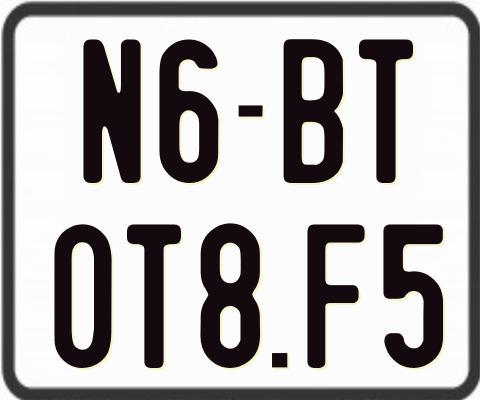0: (54, 223, 117, 373)
5: (381, 224, 445, 370)
6: (158, 38, 221, 181)
8: (199, 223, 259, 368)
B: (281, 36, 341, 185)
F: (307, 224, 369, 368)
N: (80, 38, 142, 184)
T: (358, 37, 418, 187), (125, 221, 181, 368)
